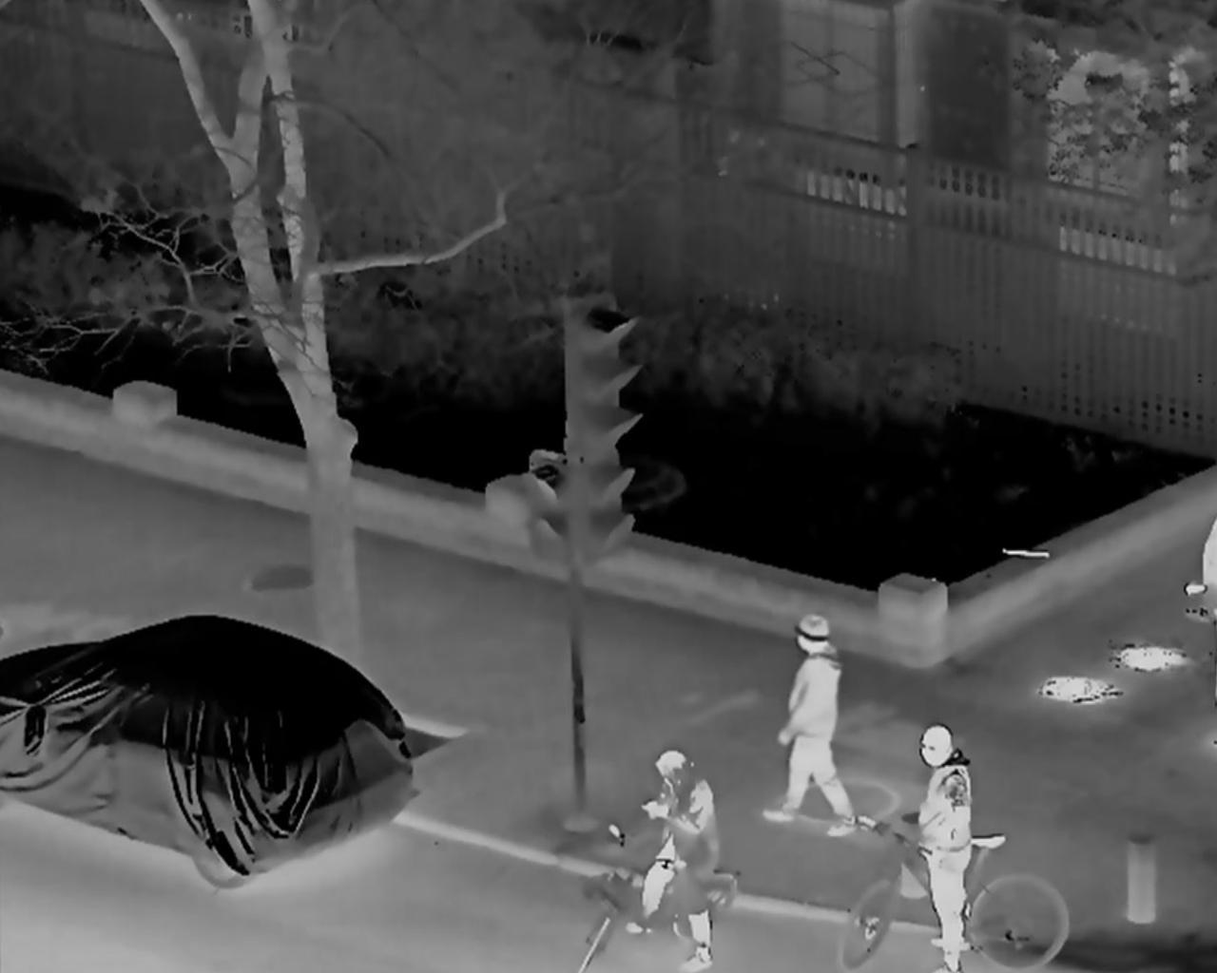person: (623, 752, 724, 973), (770, 618, 860, 836), (916, 721, 980, 973)
